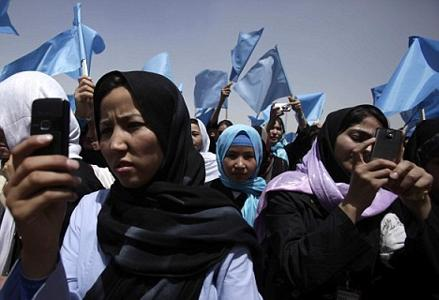person: (2, 72, 264, 300)
